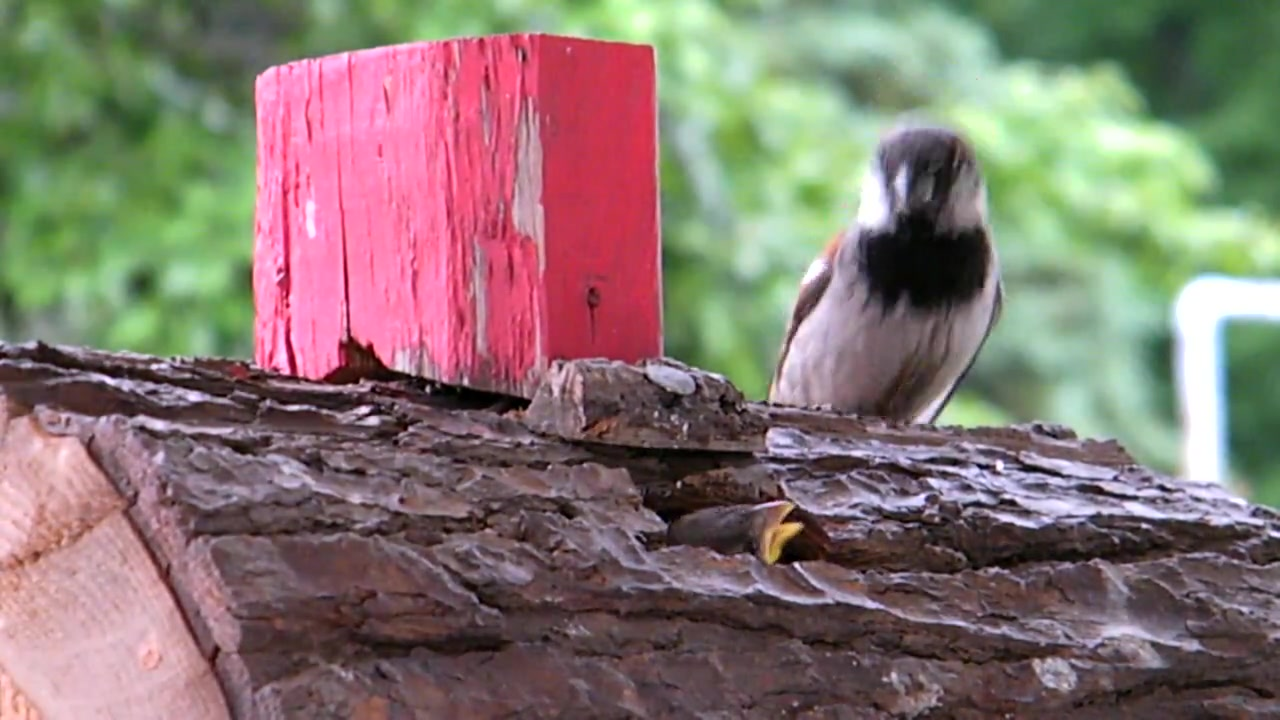bird: (769, 126, 1014, 434)
